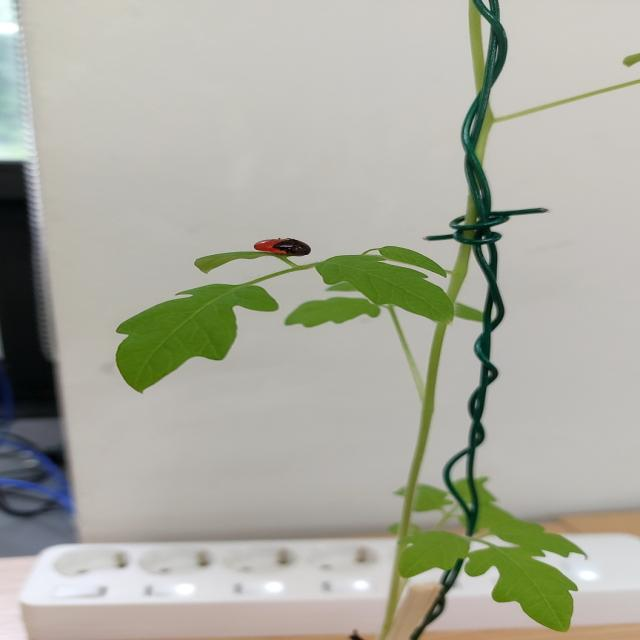bug: (245, 220, 311, 266)
